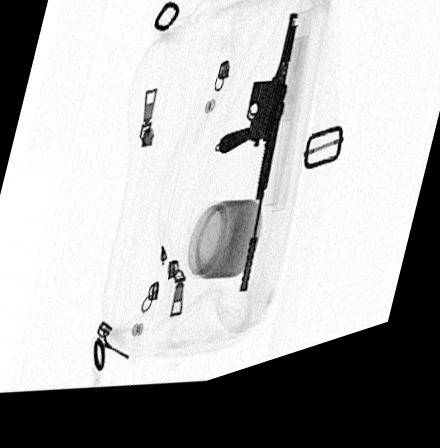Gun: (239, 44, 297, 308), (218, 32, 297, 168)
